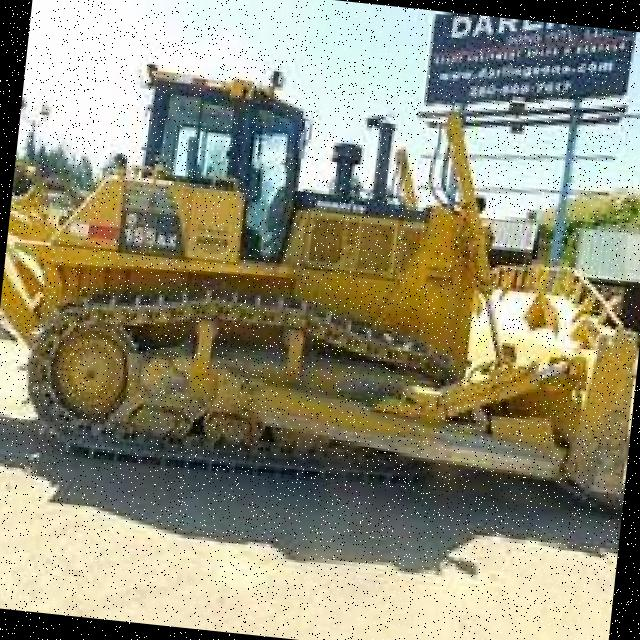Bulldozer: (0, 35, 640, 542)
